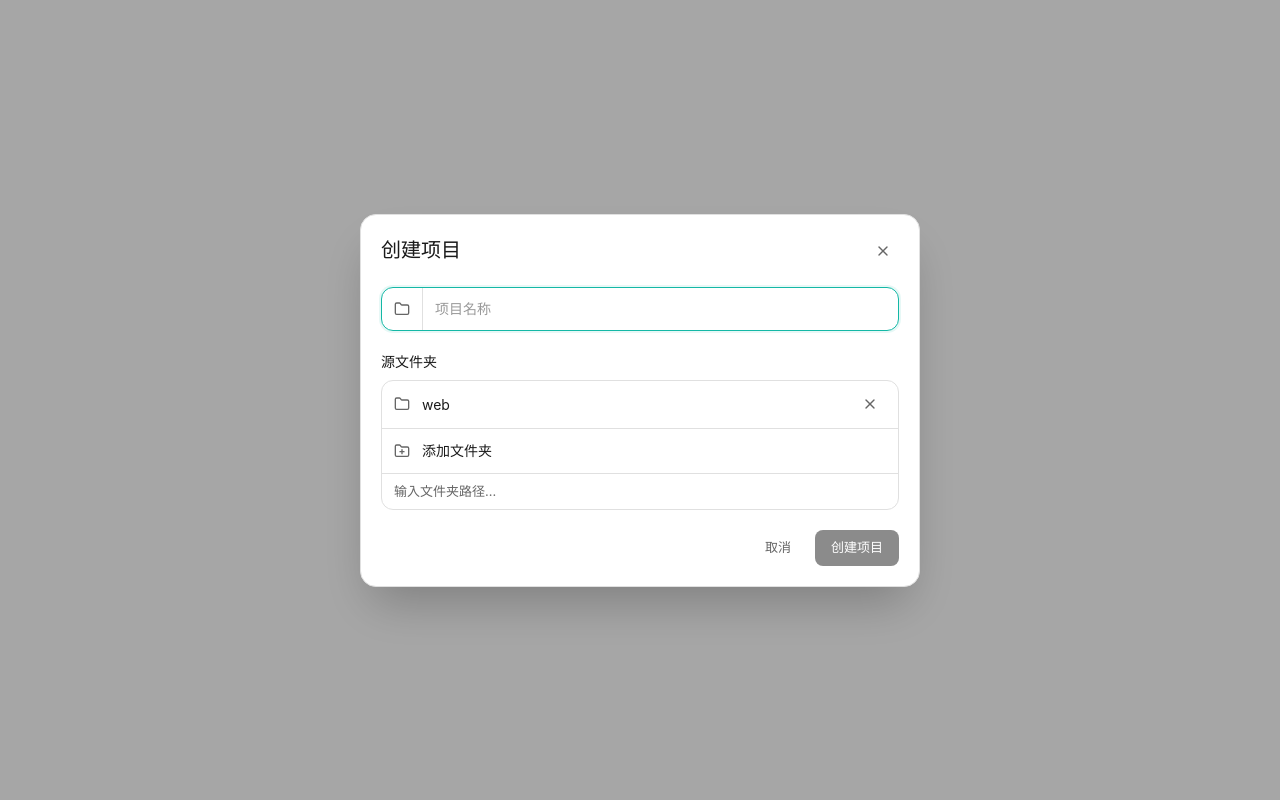
LocalProjectCreateDialog › requires a name and at least one source folder
The image size is (1280, 800).
Expected: the button with test id "confirm-local-project-create-button" is disabled, [815,530,899,566]
Type "Product" into the field with test id "local-project-create-name-input" at (660, 308), box [423,298,898,319]
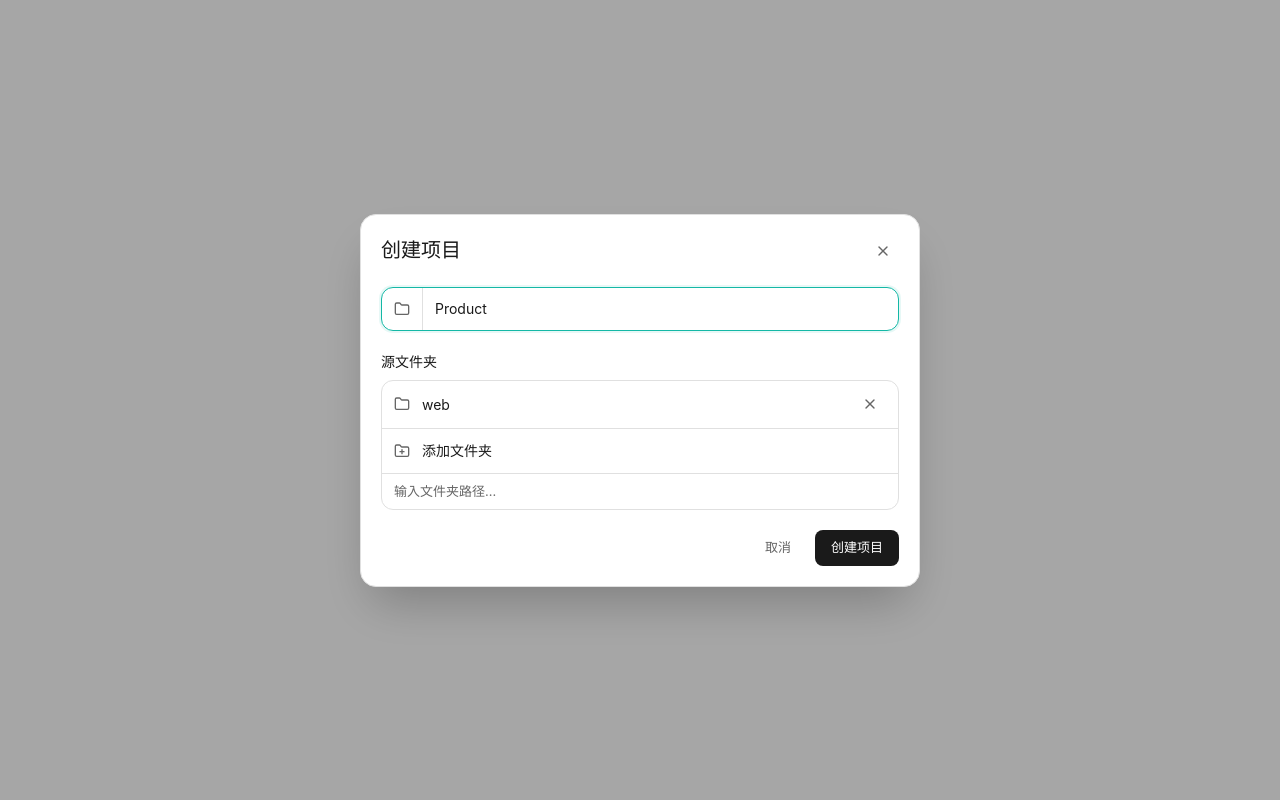
Click the button with test id "remove-local-project-create-root-0" at (870, 404), box [854,388,886,420]
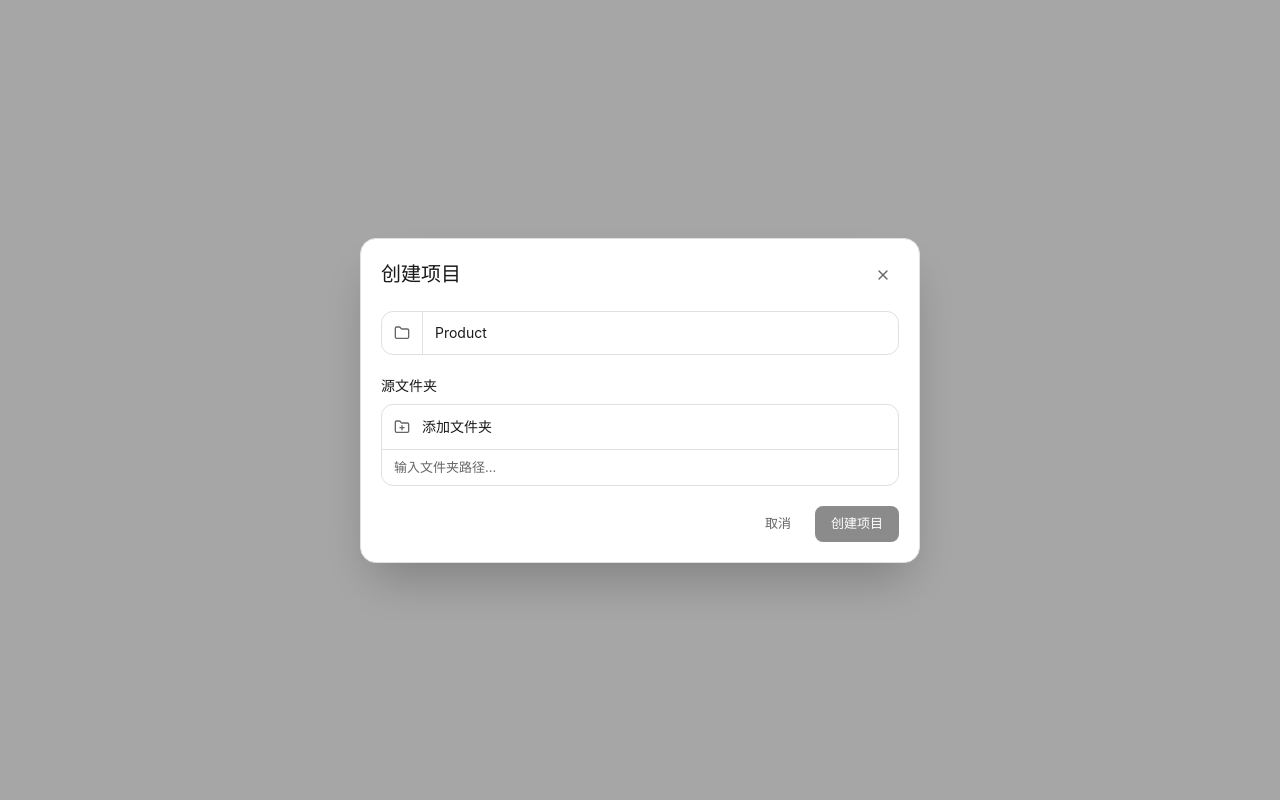
Expected: the button with test id "confirm-local-project-create-button" is disabled, [815,506,899,542]
